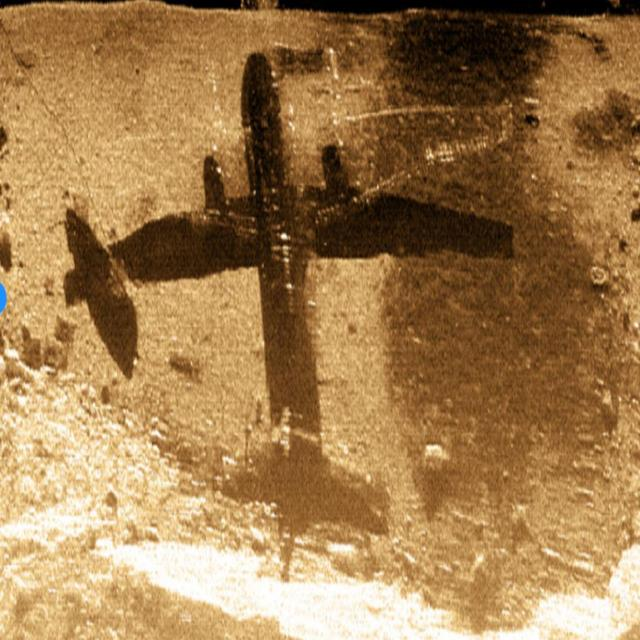plane: (44, 24, 524, 534)
